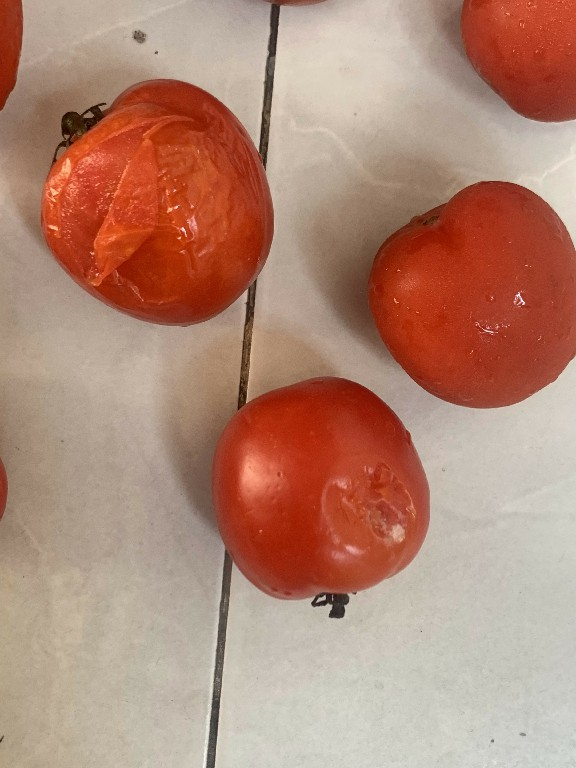NG: (22, 55, 285, 332), (196, 369, 456, 633)
OK: (360, 155, 576, 408)
